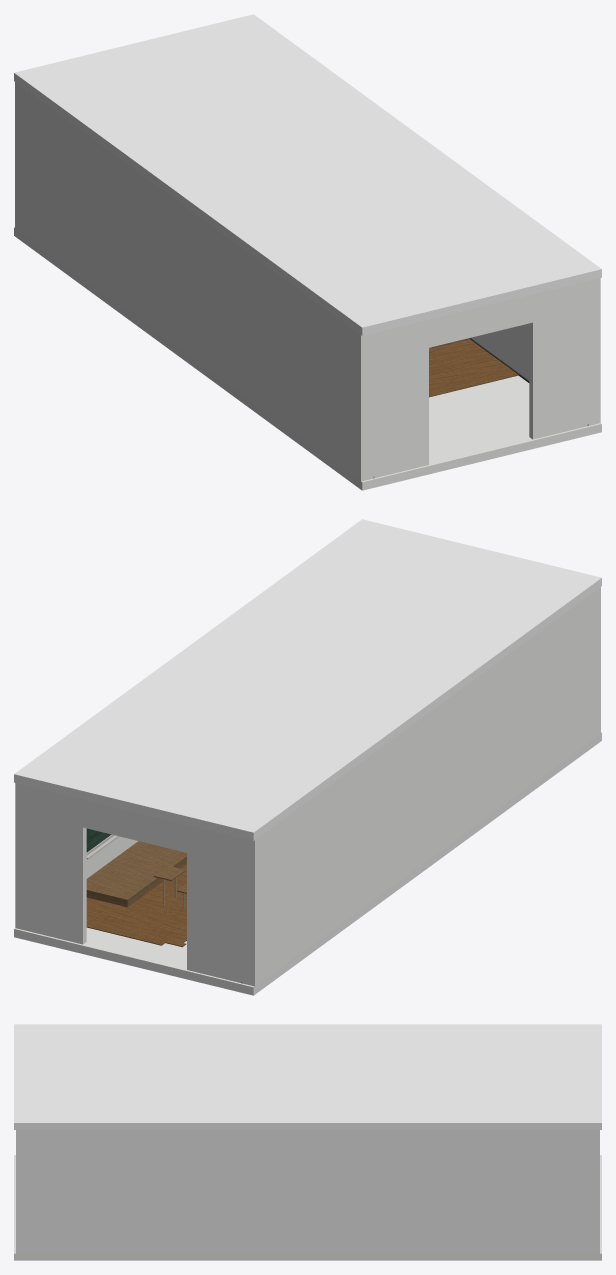
Rendered from room_classroom_s3.glb.
3 views of the same model, one above another, from view 1: azimuth 30°, elevation 25°; view 2: azimuth 150°, elevation 25°; view 3: azimuth 270°, elevation 25° (orthographic). The views are drawn at different scales.
Parts seen in each view (by area): view 1: room_classroom_s3_static; view 2: room_classroom_s3_static; view 3: room_classroom_s3_static.
Part boxes in pixels (x1,y1,x2,y2): room_classroom_s3_static: (14,14,601,490); room_classroom_s3_static: (14,519,601,995); room_classroom_s3_static: (14,1024,601,1260).
Bounding box in the file's own units: 6 × 3.9 × 15.1.
Materials: 16 (3 with a texture image).
